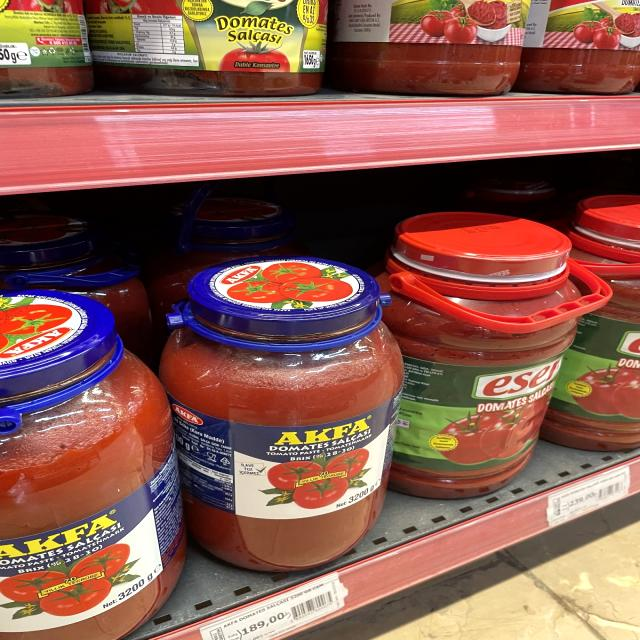tomato paste: (144, 243, 393, 570), (387, 215, 573, 490)
